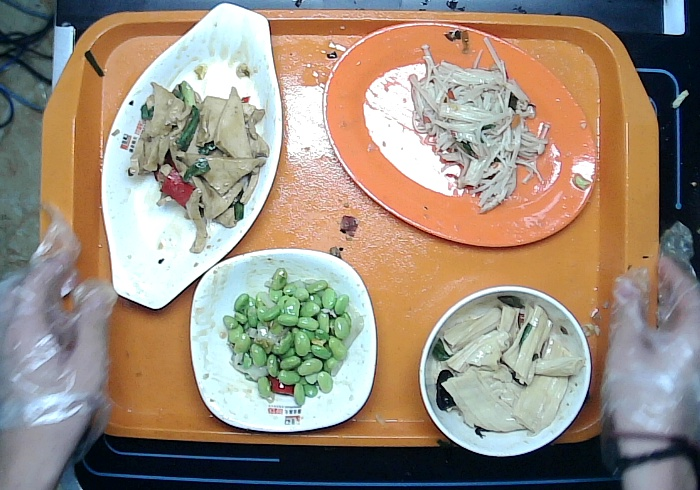NLDX-Bai_Se_Xiao_Fang_Die: (188, 246, 380, 437)
NLDX-Fan_Wan: (417, 284, 592, 459)
NLDX-Ju_Se_Pan: (319, 20, 599, 251)
NLDX-Yu_Pan: (98, 1, 285, 313)
